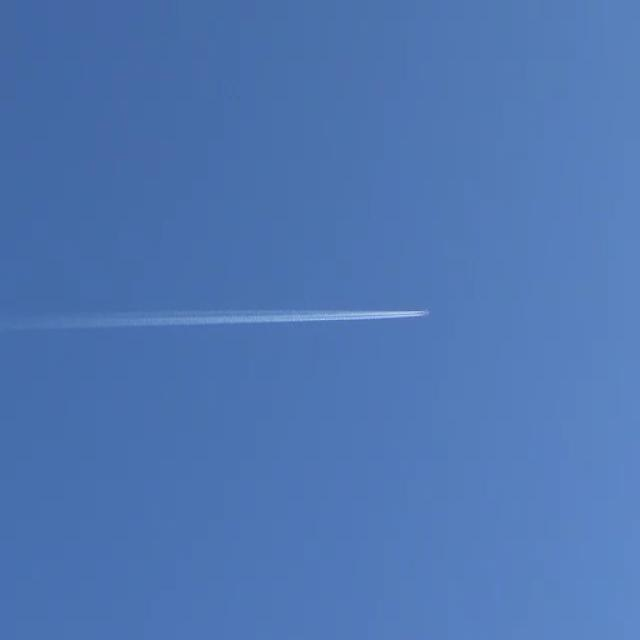AirPlane: (354, 291, 440, 336)
